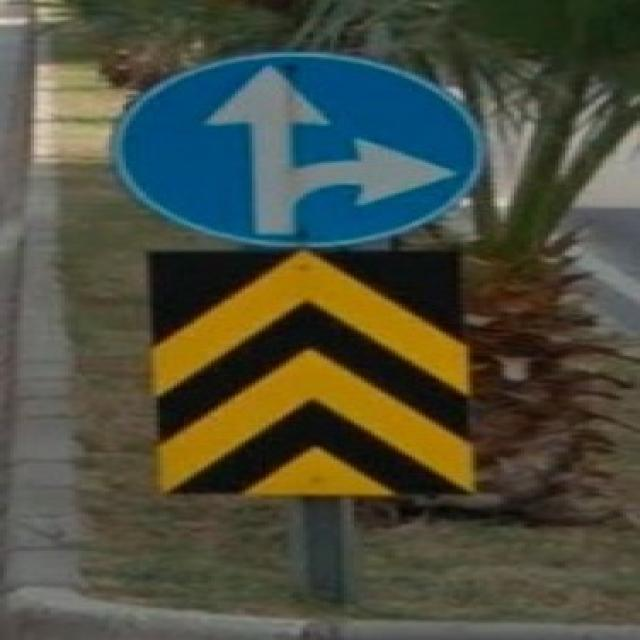Straight or Right: (115, 53, 469, 246)
